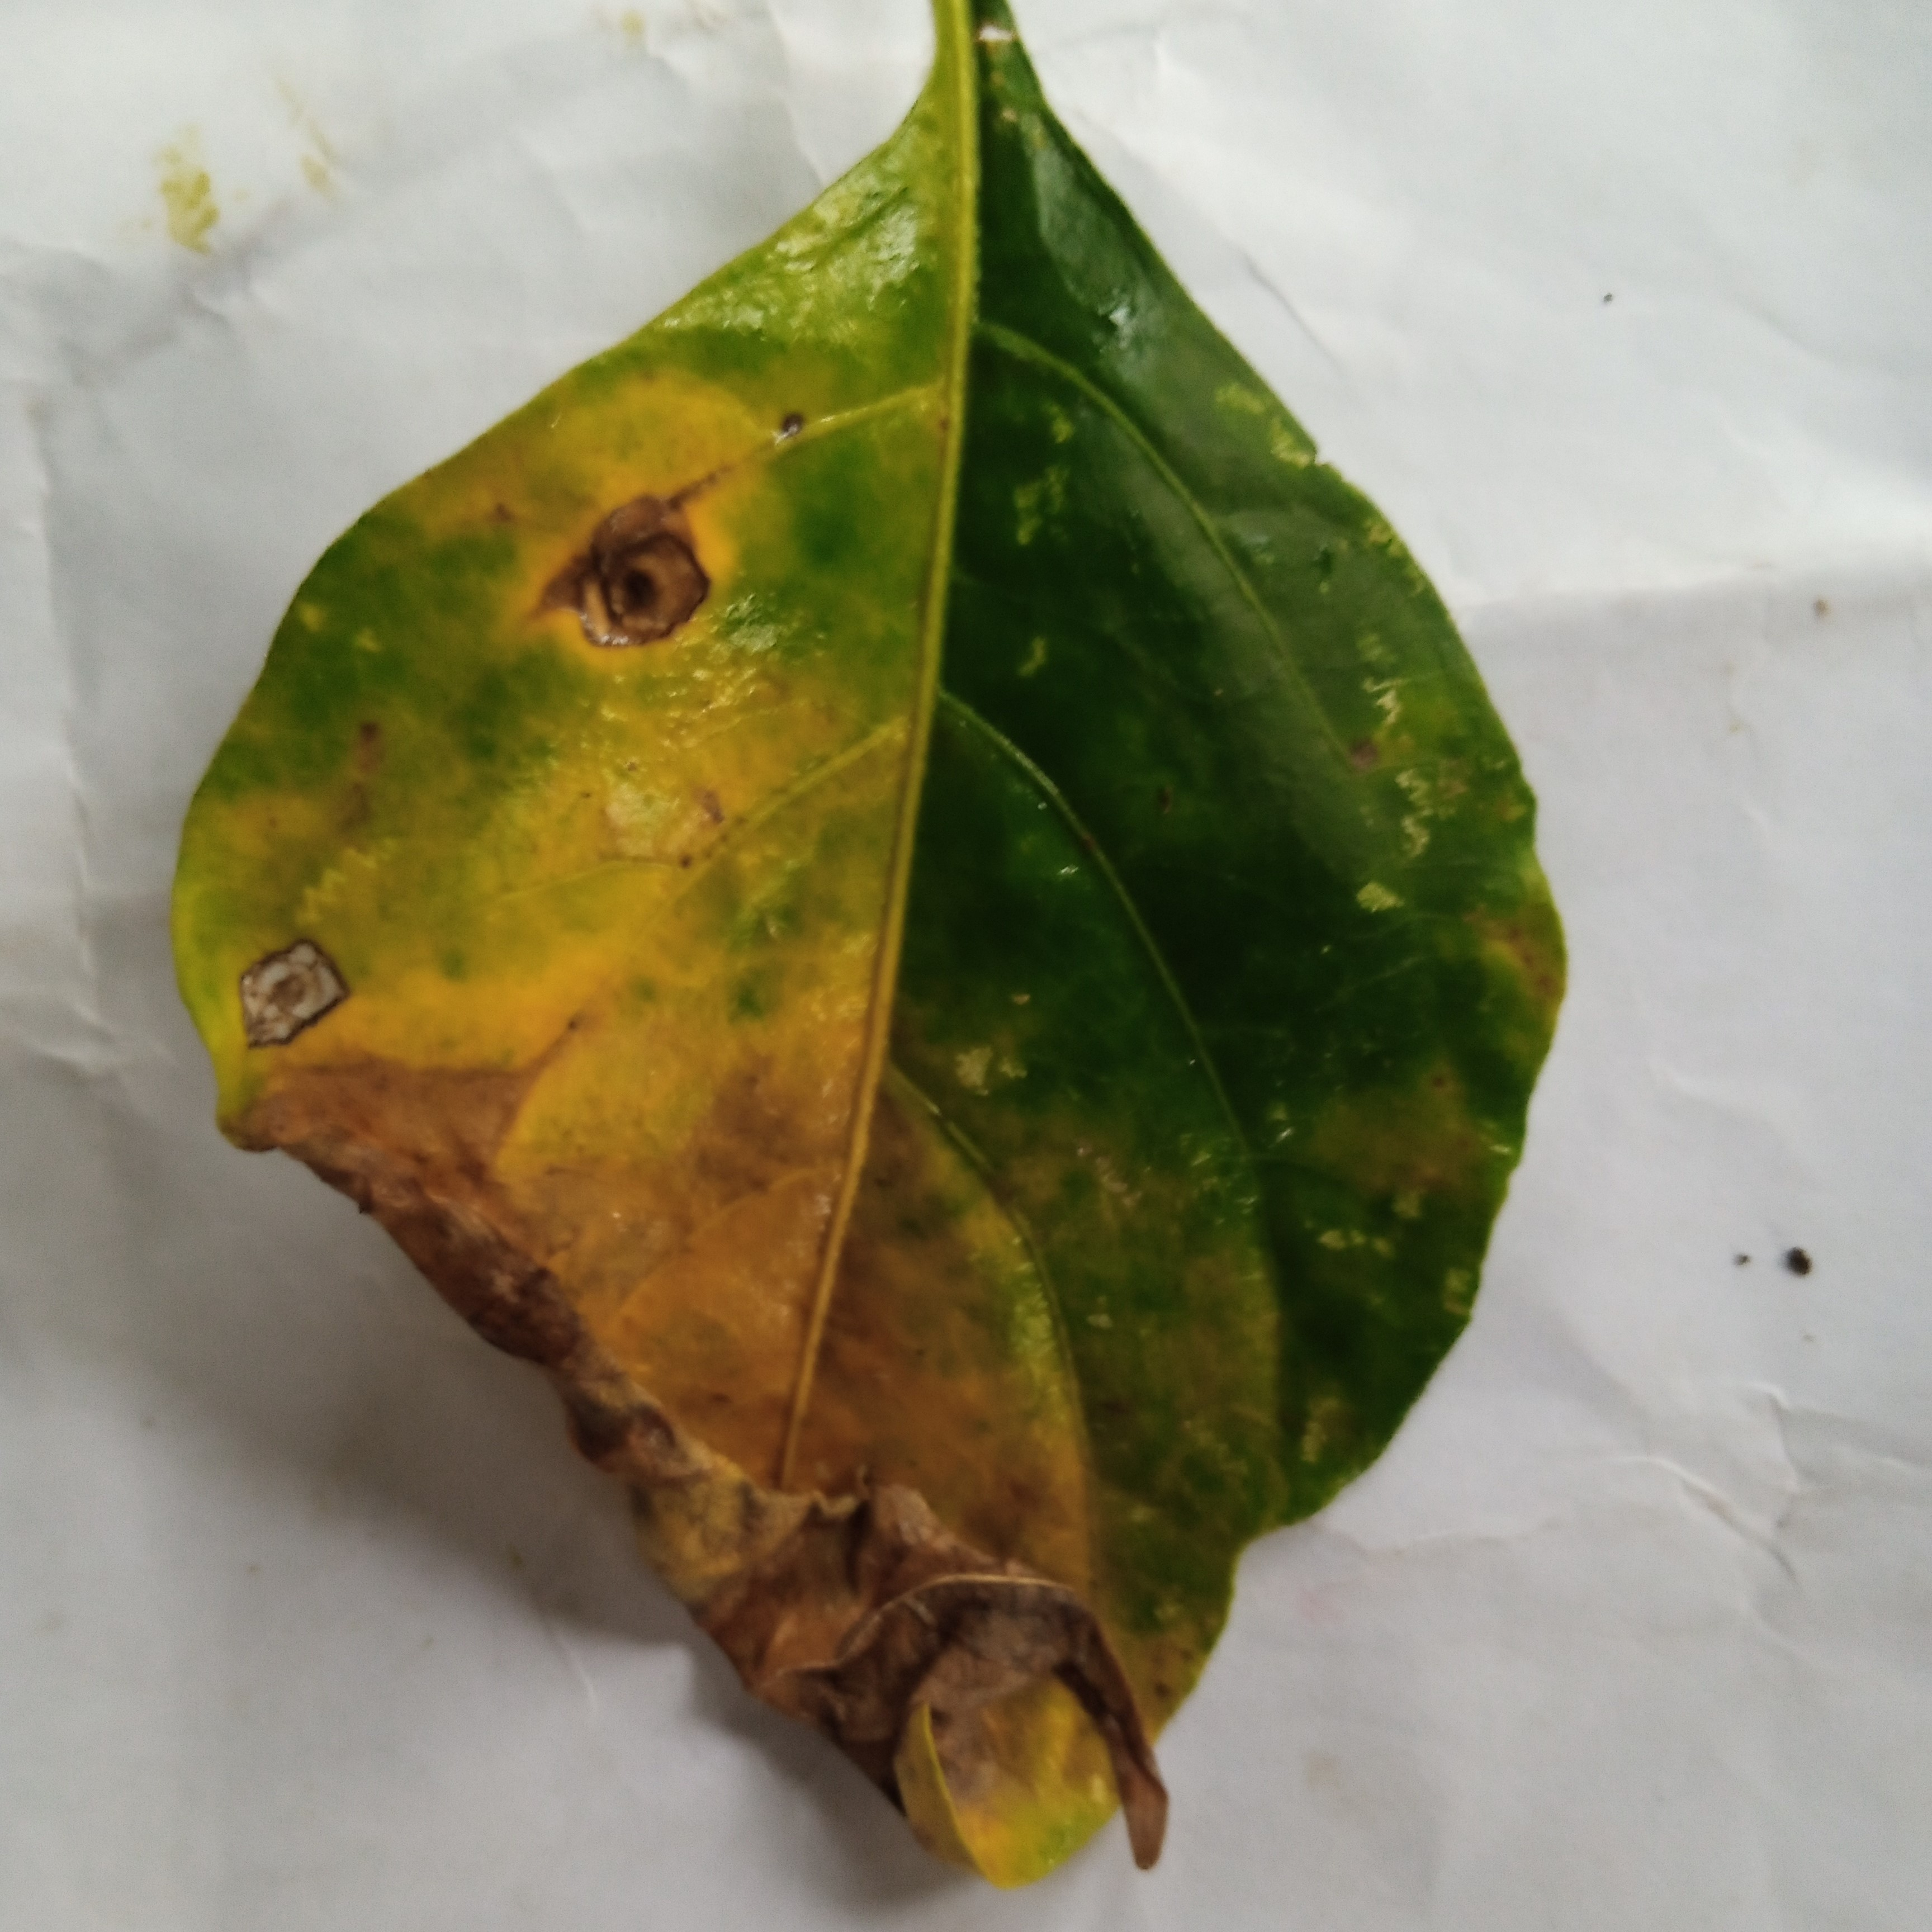Leaf: (88, 58, 1622, 1932)
